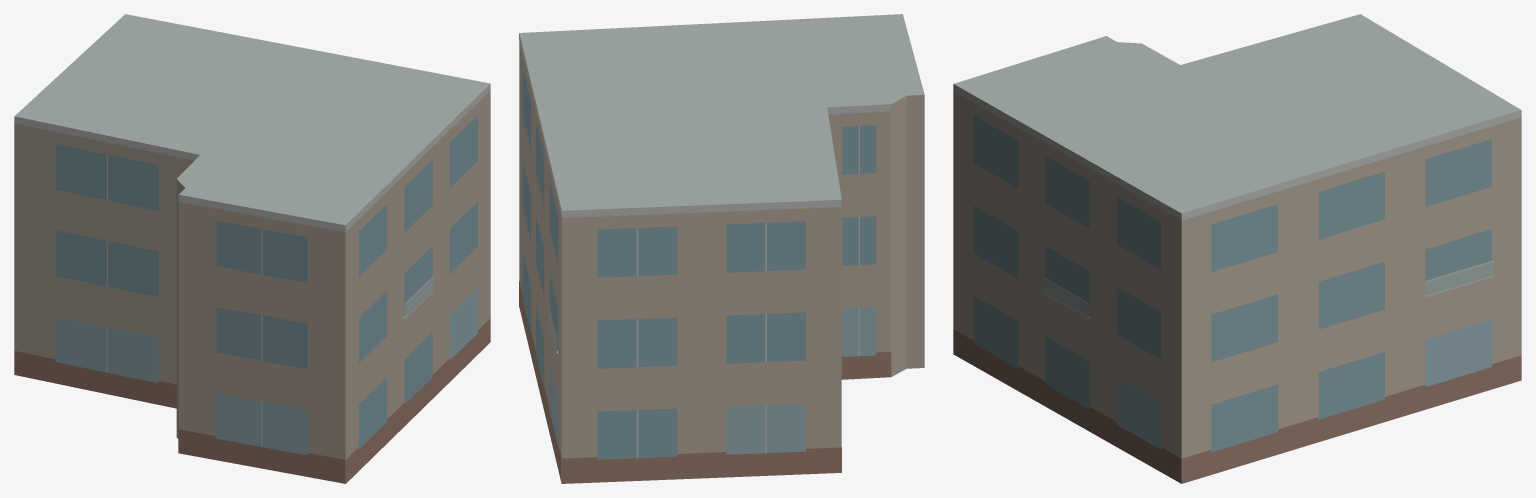
Rendered from survey-upis-32709374.glb.
3 renders of one model, left to right at view 1: azimuth 30°, elevation 25°; view 2: azimuth 150°, elevation 25°; view 3: azimuth 270°, elevation 25°, orthographic. The views are drawn at different scales.
Parts seen in each view (by area): view 1: survey-upis-32709374.tmp; view 2: survey-upis-32709374.tmp; view 3: survey-upis-32709374.tmp.
Part boxes in pixels (x1,y1,x2,y2): survey-upis-32709374.tmp: (14, 14, 490, 483); survey-upis-32709374.tmp: (519, 14, 924, 483); survey-upis-32709374.tmp: (953, 14, 1521, 483).
Size of the model in its own units: 14.49 by 9.15 by 17.44.
